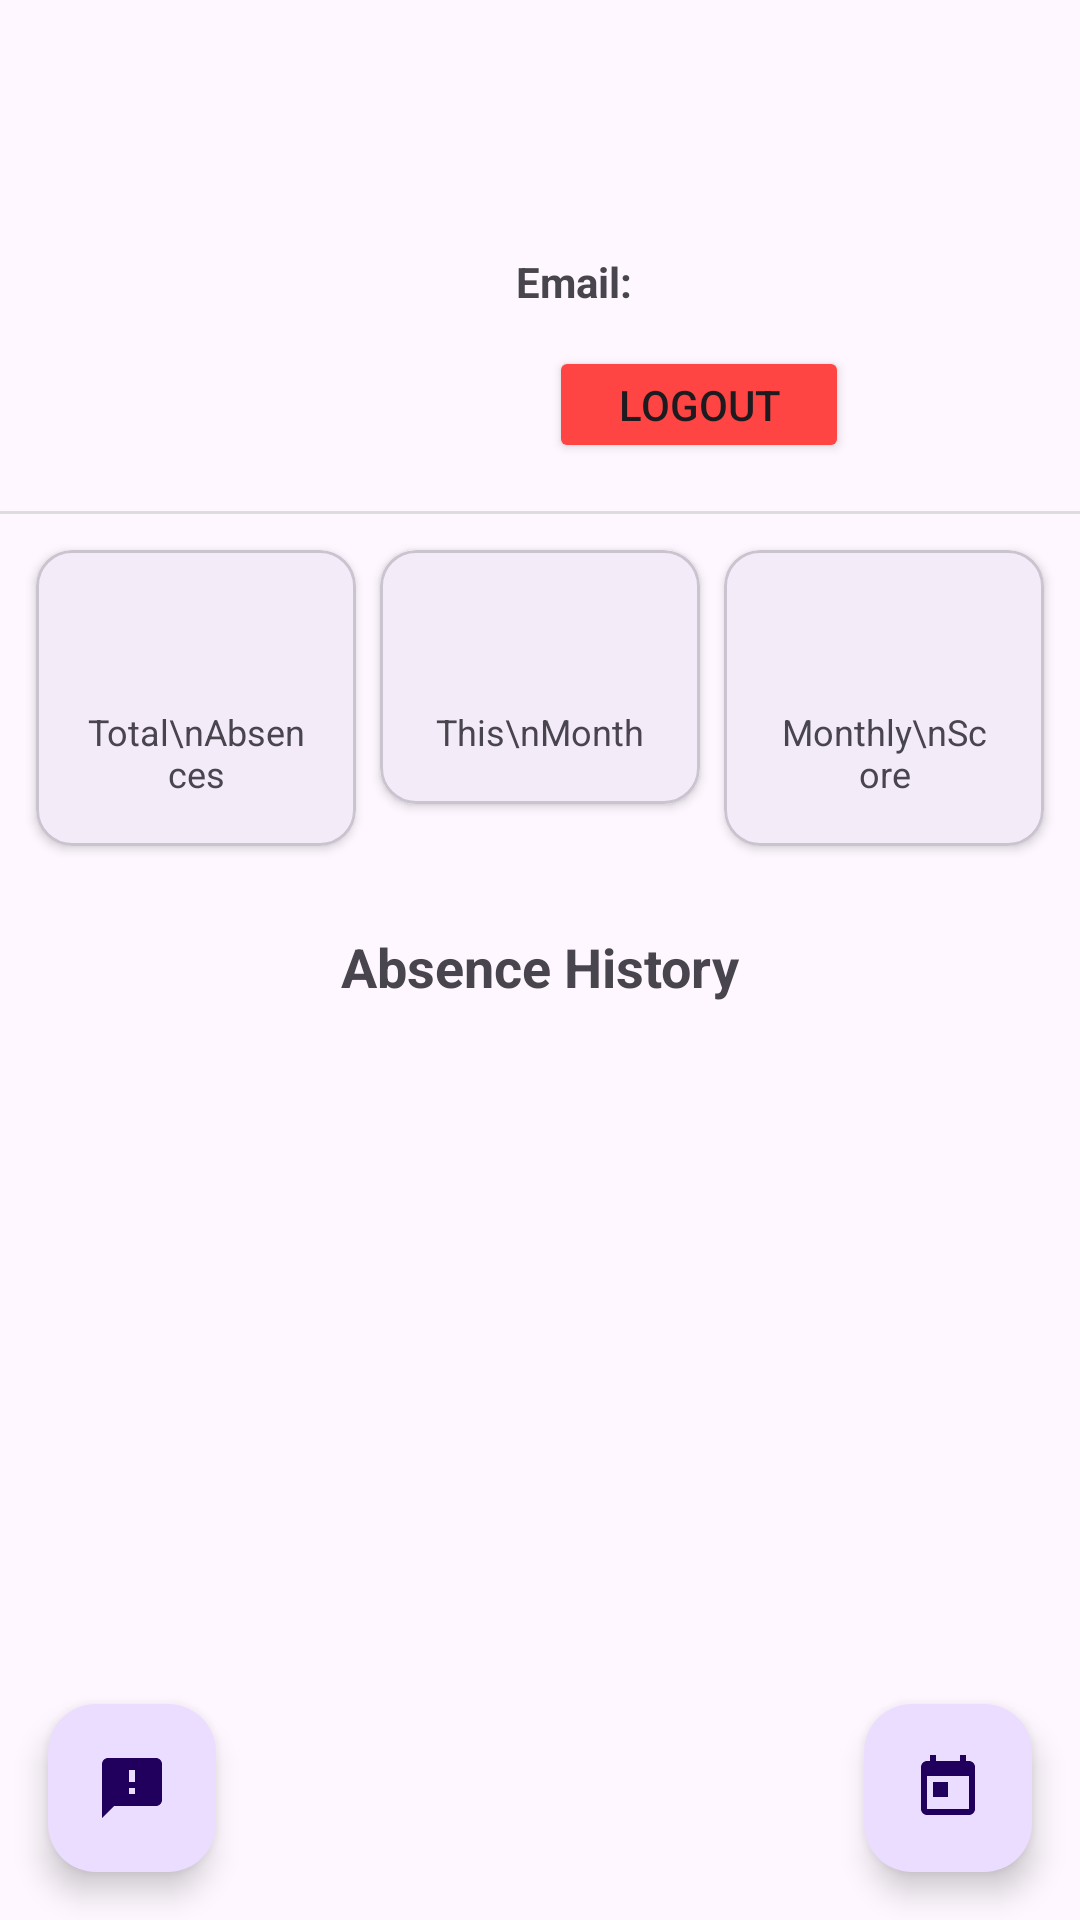

Screen size 1080px x 1920px. Icon name, then its center in pixels as (x,y):
reclamation: (132,1788)
View Schedule: (948,1788)
